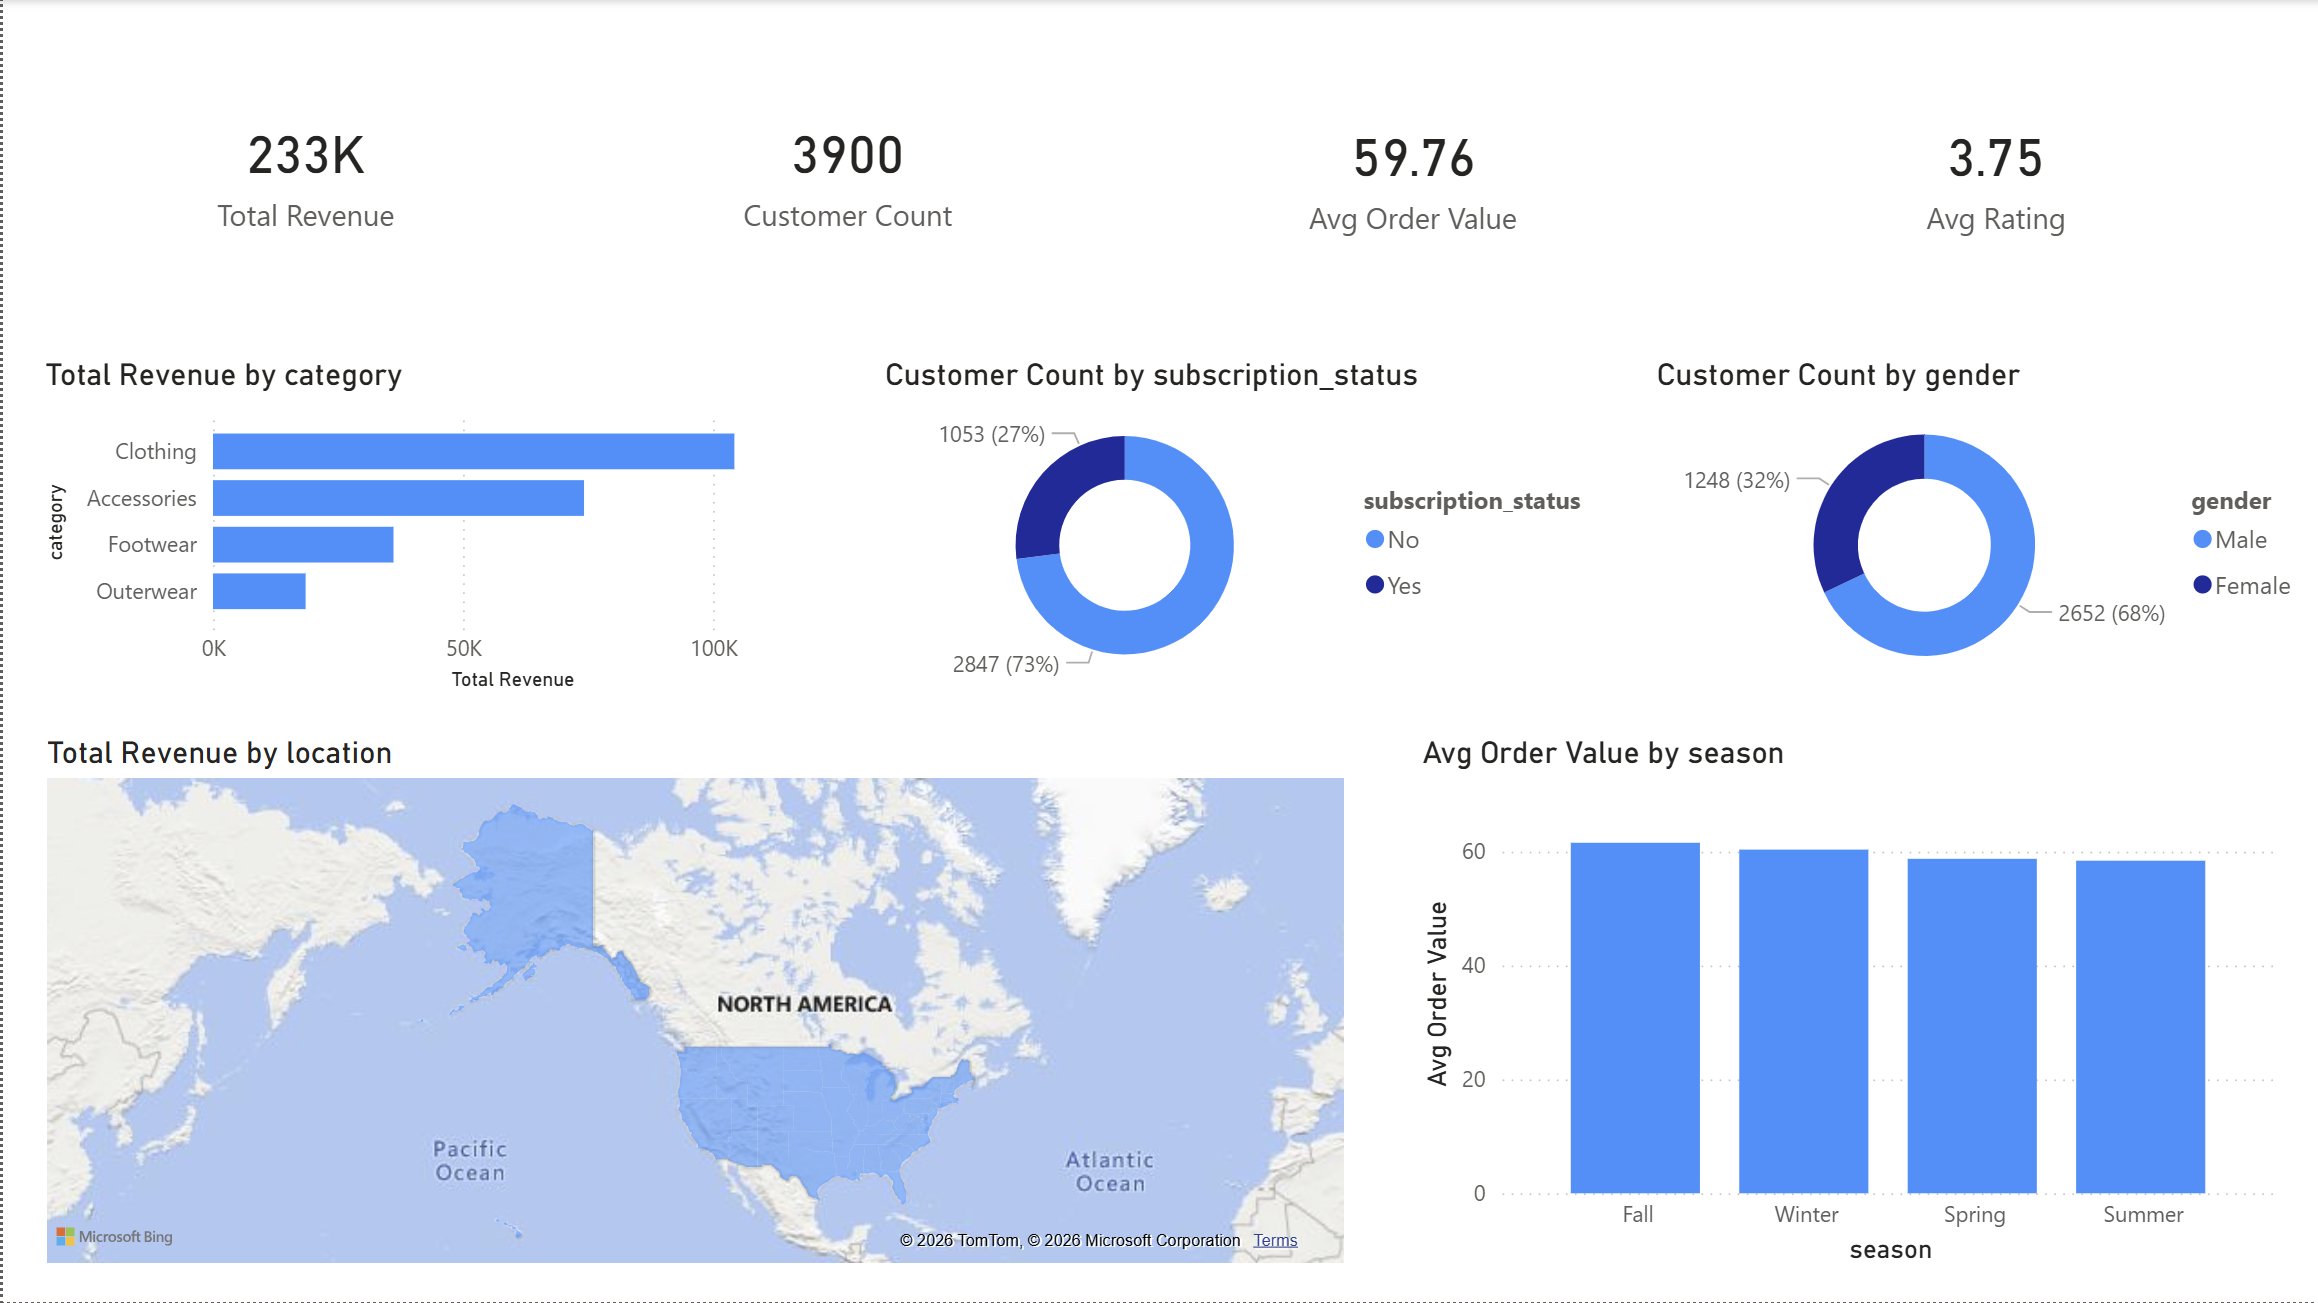

The dashboard page shown, as its layout file describes it:
{"tool":"powerbi","page":{"name":"Overview","canvas":[1280,720],"ordinal":0},"visuals":[{"type":"card","fields":{"Values":["Table.Total Revenue"]},"box":[18.7,12.1,297.8,164.8],"z":0},{"type":"card","fields":{"Values":["Table.Customer Count"]},"box":[316.5,12.1,301.1,164.8],"z":1000},{"type":"card","fields":{"Values":["Table.Avg Order Value"]},"box":[617.6,14.3,324.2,162.6],"z":2000},{"type":"card","fields":{"Values":["Table.Avg Rating"]},"box":[941.8,14.3,320.9,162.6],"z":3000},{"type":"clusteredBarChart","fields":{"Category":["CustomerData.category"],"Y":["Table.Total Revenue"]},"box":[18.7,197.8,448.4,189],"z":4000},{"type":"donutChart","fields":{"Category":["CustomerData.subscription_status"],"Y":["Table.Customer Count"]},"box":[482.4,197.8,405.5,189],"z":5000},{"type":"donutChart","fields":{"Category":["CustomerData.gender"],"Y":["Table.Customer Count"]},"box":[909.9,197.8,370.3,189],"z":6000},{"type":"clusteredColumnChart","fields":{"Category":["CustomerData.season"],"Y":["Table.Avg Order Value"]},"box":[779.8,406.4,483,296.8],"z":7000},{"type":"filledMap","fields":{"Category":["CustomerData.location"]},"box":[19.1,406.4,726.6,296.8],"z":8000}]}

Visuals, with their boxes in screenshot pixels (x1, y1, x2, y2), scaled from the page's 1280x720 canvas onto the 2318x1303 screenshot:
card - Table.Total Revenue: region(34, 22, 573, 320)
card - Table.Customer Count: region(573, 22, 1118, 320)
card - Table.Avg Order Value: region(1118, 26, 1706, 320)
card - Table.Avg Rating: region(1706, 26, 2287, 320)
clusteredBarChart - CustomerData.category x Table.Total Revenue: region(34, 358, 846, 700)
donutChart - CustomerData.subscription_status x Table.Customer Count: region(874, 358, 1608, 700)
donutChart - CustomerData.gender x Table.Customer Count: region(1648, 358, 2317, 700)
clusteredColumnChart - CustomerData.season x Table.Avg Order Value: region(1412, 735, 2287, 1273)
filledMap - CustomerData.location: region(35, 735, 1350, 1273)
